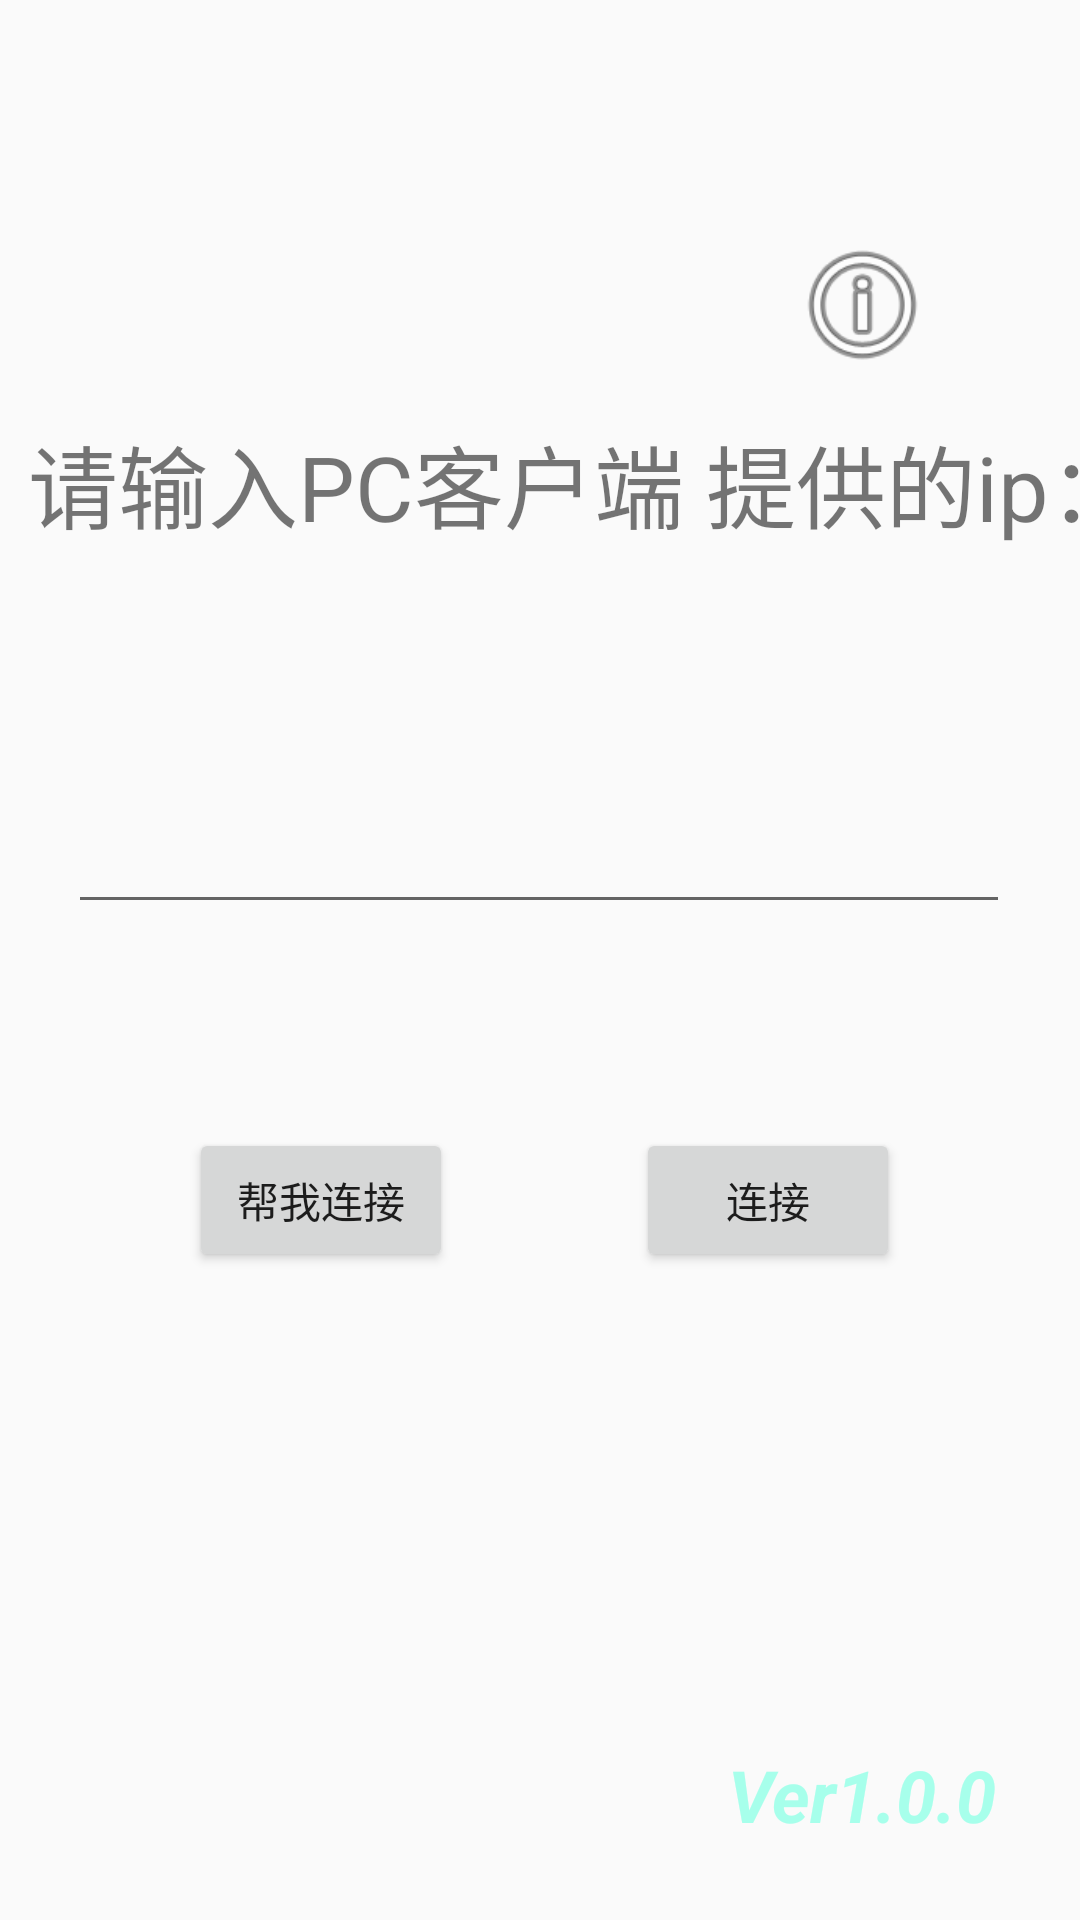

Icons on this 1080w x 1920h Android screen, each with the point to tap as (x,y):
info details: (862,305)
